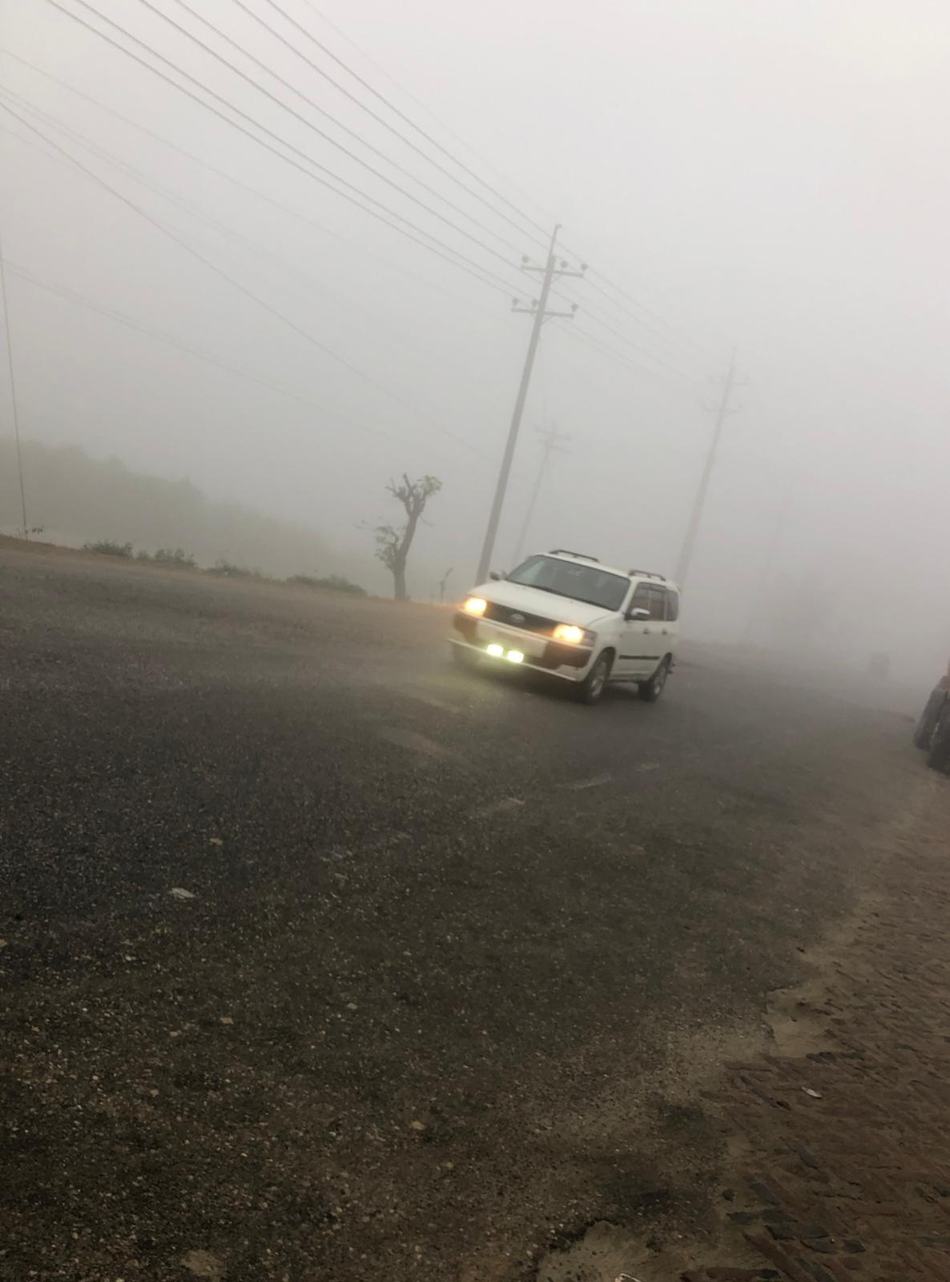Car: (435, 534, 713, 708)
